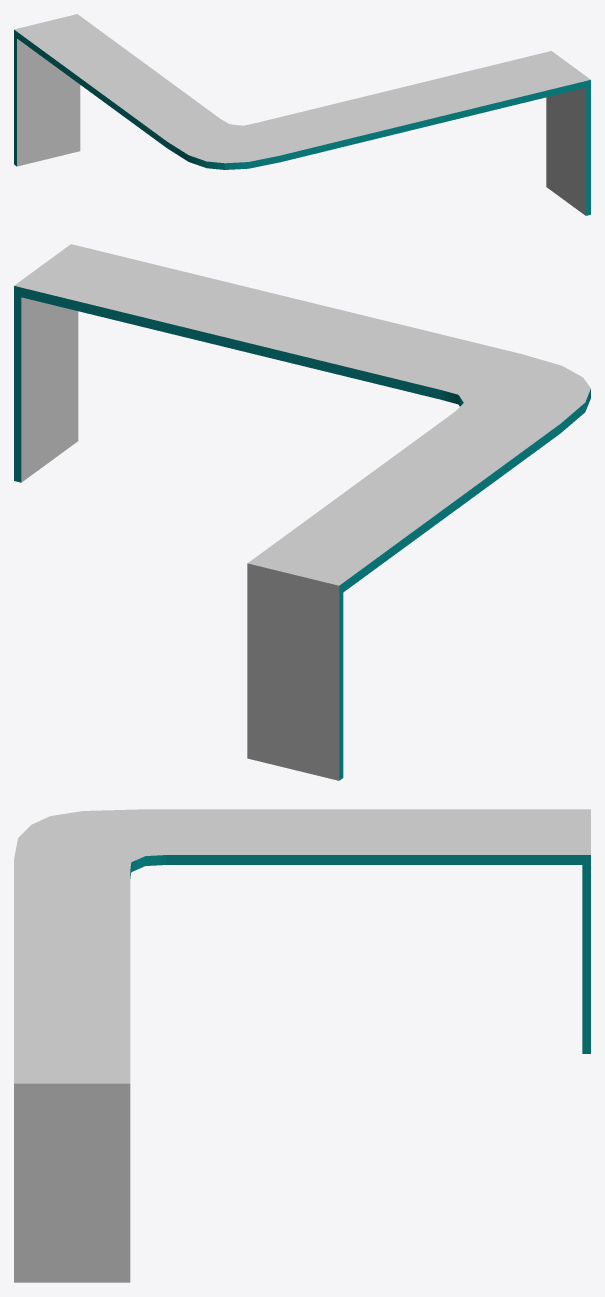
Rendered from MOD_corner_desk.fbx.
3 renders of one model, top to bottom at view 1: azimuth 30°, elevation 25°; view 2: azimuth 150°, elevation 25°; view 3: azimuth 270°, elevation 25°, orthographic. The views are drawn at different scales.
Visible parts, largest first — view 1: pCube31; view 2: pCube31; view 3: pCube31.
Part boxes in pixels (x1,y1,x2,y2): pCube31: [14, 14, 590, 215]; pCube31: [14, 244, 590, 780]; pCube31: [14, 809, 590, 1282].
Size of the model in its own units: 4.56 by 1.54 by 4.05.
